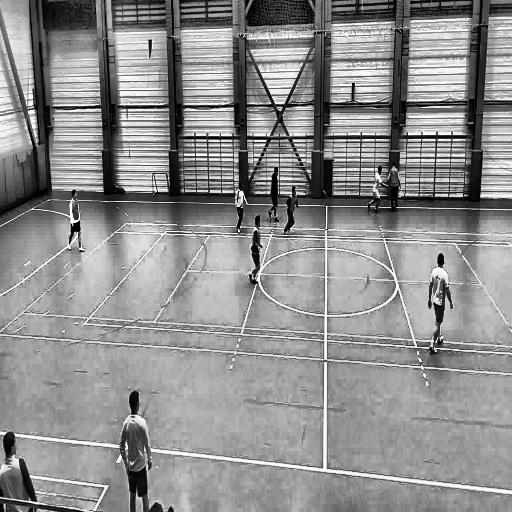ball: (392, 202, 398, 214)
player: (117, 389, 153, 512), (425, 252, 454, 356), (67, 187, 87, 253), (248, 214, 265, 286), (367, 164, 389, 217), (234, 180, 250, 237), (266, 165, 281, 225), (284, 184, 300, 238), (386, 161, 400, 213)
